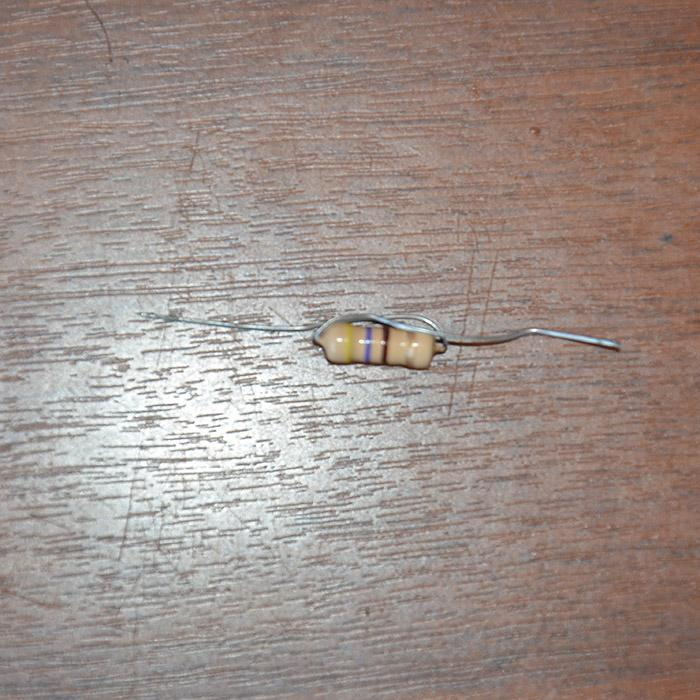resistor: (314, 321, 441, 370)
